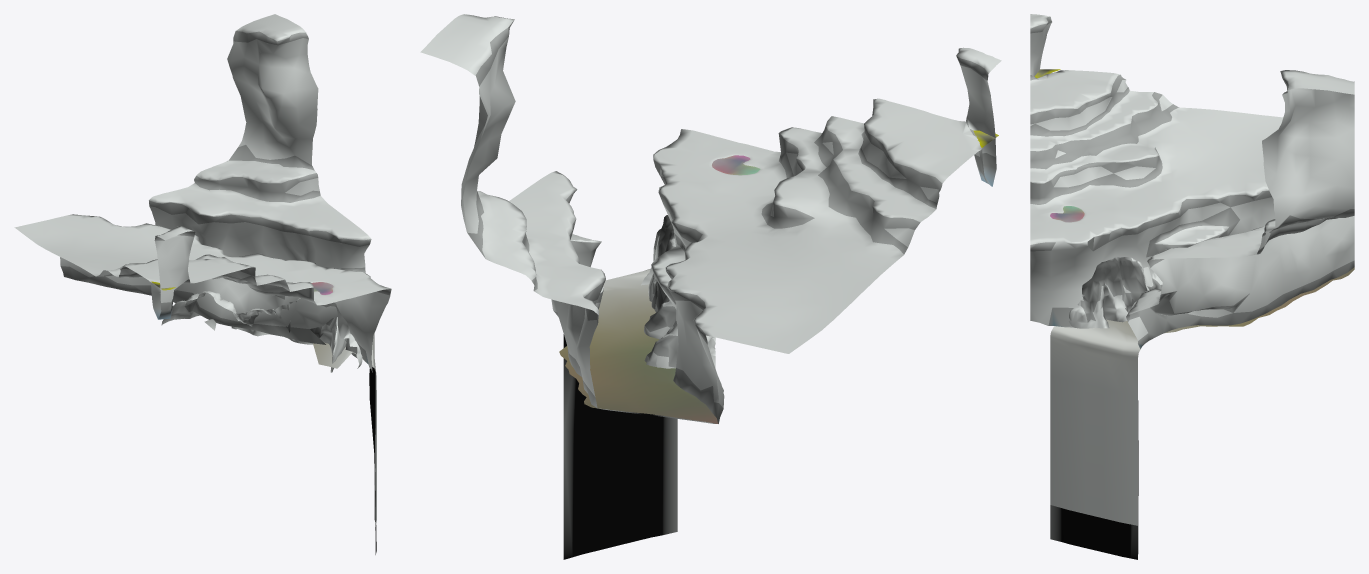
The picture shows the model from 3 angles, left to right: view 1: azimuth 30°, elevation 25°; view 2: azimuth 150°, elevation 25°; view 3: azimuth 270°, elevation 25°; orthographic projection. The views are drawn at different scales.
Parts seen in each view (by area): view 1: G:\FFXIV-MapTools\exports\r2f1\bg\ex1\01_roc_r2\fld\r2f1\bgp (×8); view 2: G:\FFXIV-MapTools\exports\r2f1\bg\ex1\01_roc_r2\fld\r2f1\bgp (×8); view 3: G:\FFXIV-MapTools\exports\r2f1\bg\ex1\01_roc_r2\fld\r2f1\bgp (×8).
Boxes of the visible parts, left/top/right/bottom form: G:\FFXIV-MapTools\exports\r2f1\bg\ex1\01_roc_r2\fld\r2f1\bgp (×8): left=14, top=14, right=391, bottom=554; G:\FFXIV-MapTools\exports\r2f1\bg\ex1\01_roc_r2\fld\r2f1\bgp (×8): left=420, top=14, right=1001, bottom=559; G:\FFXIV-MapTools\exports\r2f1\bg\ex1\01_roc_r2\fld\r2f1\bgp (×8): left=1030, top=14, right=1354, bottom=559.
Bounding box in the file's own units: 128 × 206 × 128.
